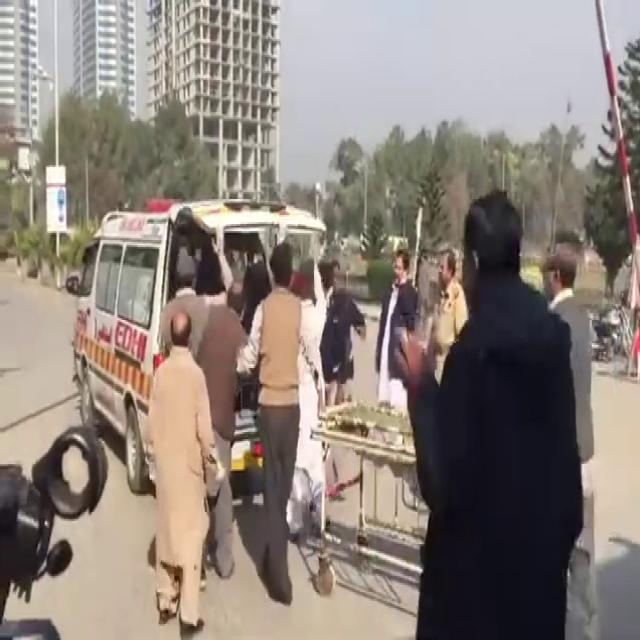ambulance: (59, 222, 337, 478)
